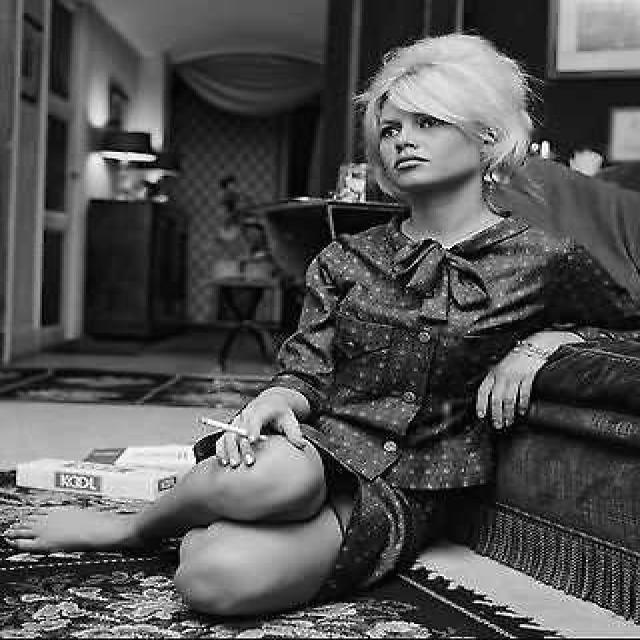Smooking: (193, 402, 266, 446)
